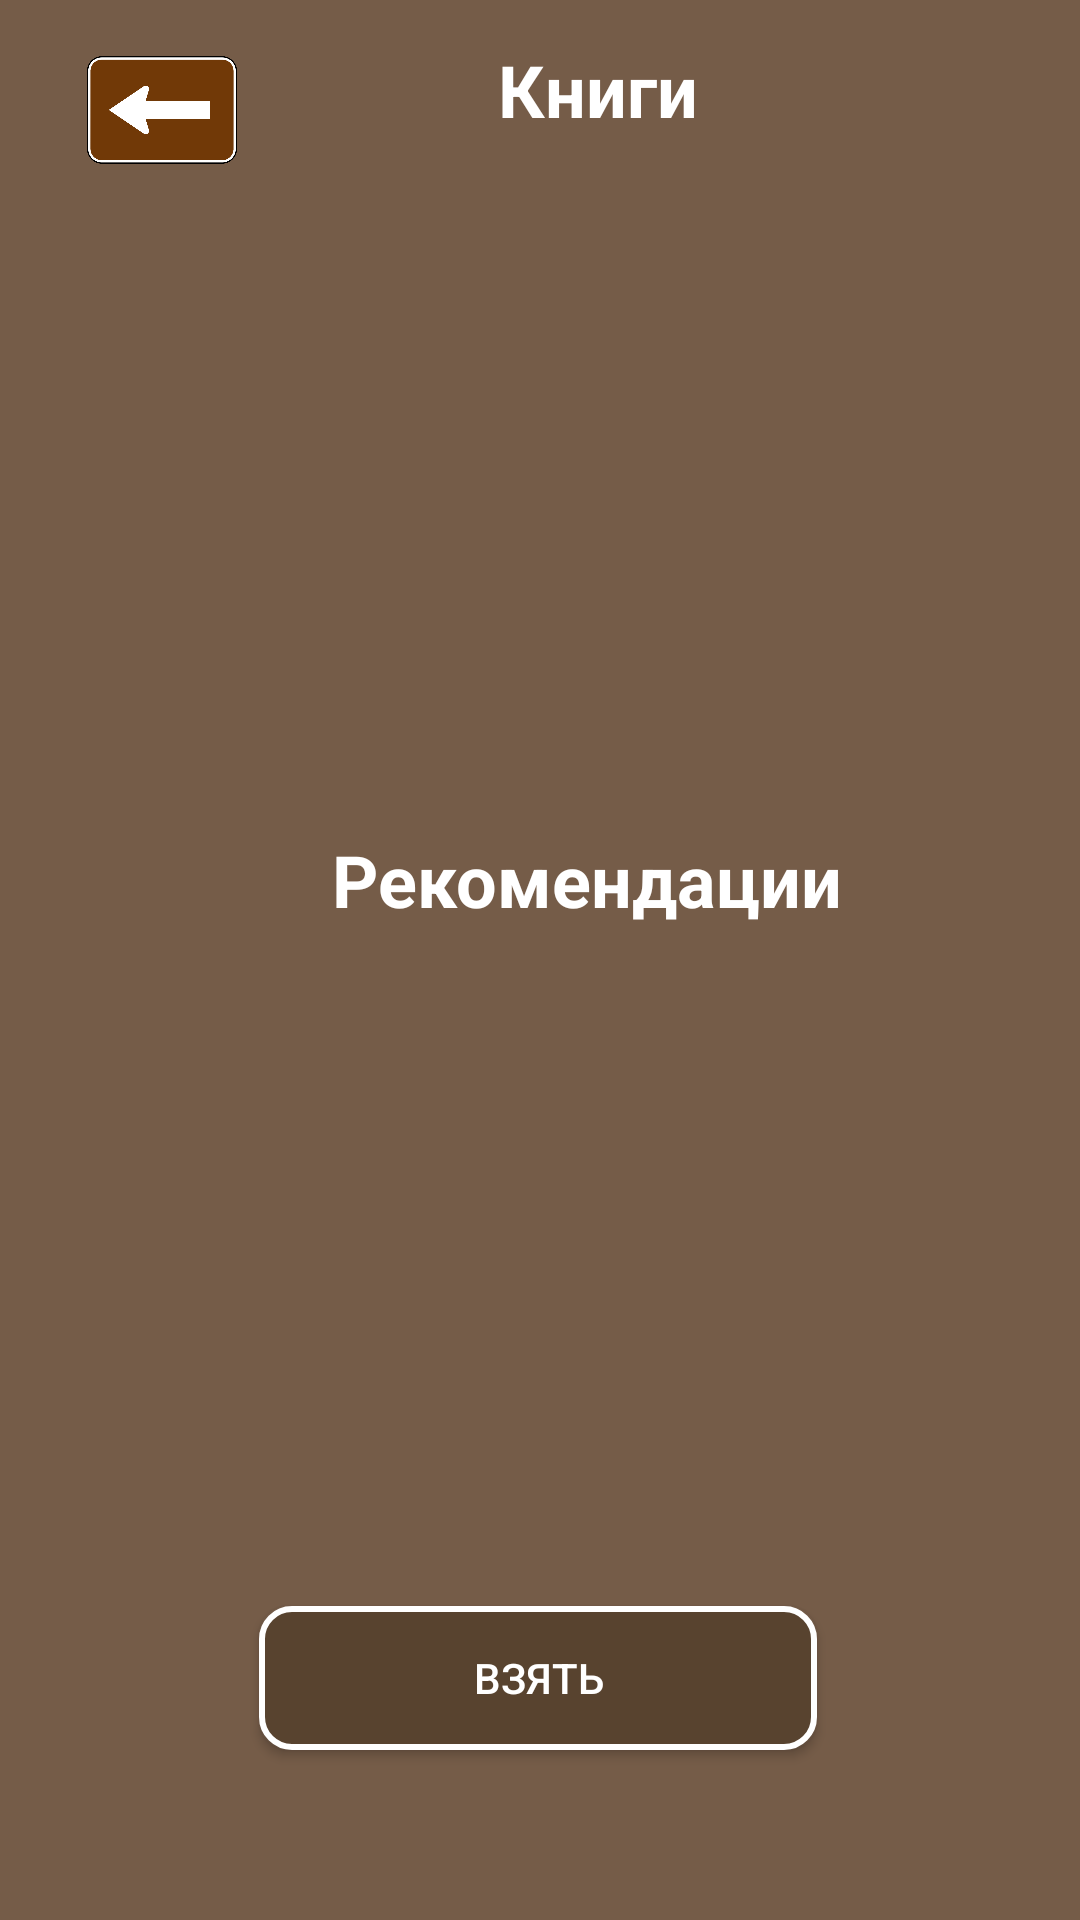

Where to tap for icons on this 1080x1920 app screen, as (x=x, y=y):
bac: (x=162, y=110)
